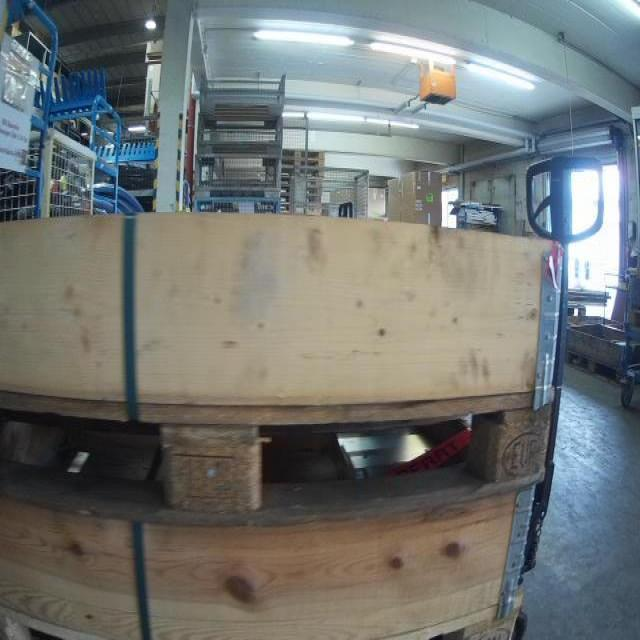pallet: (0, 385, 556, 521), (0, 593, 523, 640), (567, 350, 621, 381), (281, 144, 326, 157), (278, 174, 326, 185), (281, 157, 328, 168), (280, 185, 326, 195), (280, 195, 321, 206), (280, 206, 321, 214), (278, 168, 328, 174)
pallet_truck: (524, 153, 607, 578)
stillage: (1, 116, 96, 216), (199, 64, 290, 119), (194, 111, 286, 153), (191, 151, 284, 192), (190, 192, 278, 217)
